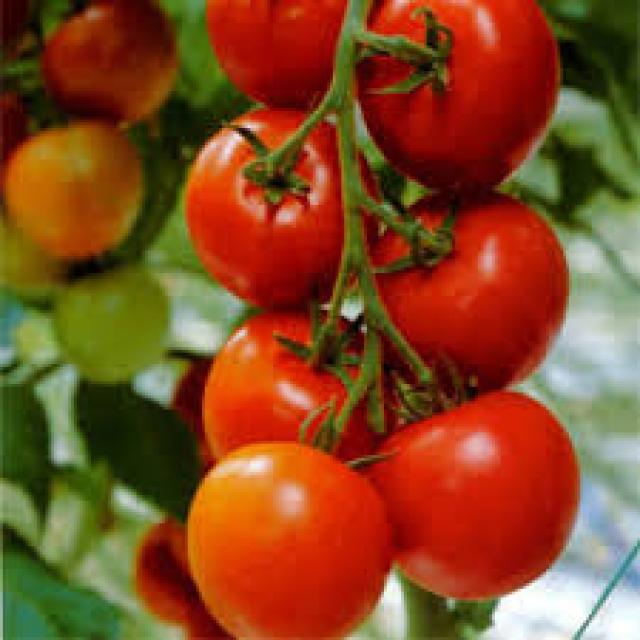Tomato: (358, 180, 576, 392), (348, 0, 569, 207), (367, 371, 574, 589), (184, 433, 401, 640), (190, 294, 372, 476), (192, 106, 362, 296), (0, 105, 155, 275), (51, 247, 182, 394), (189, 0, 358, 111), (45, 0, 186, 121)
